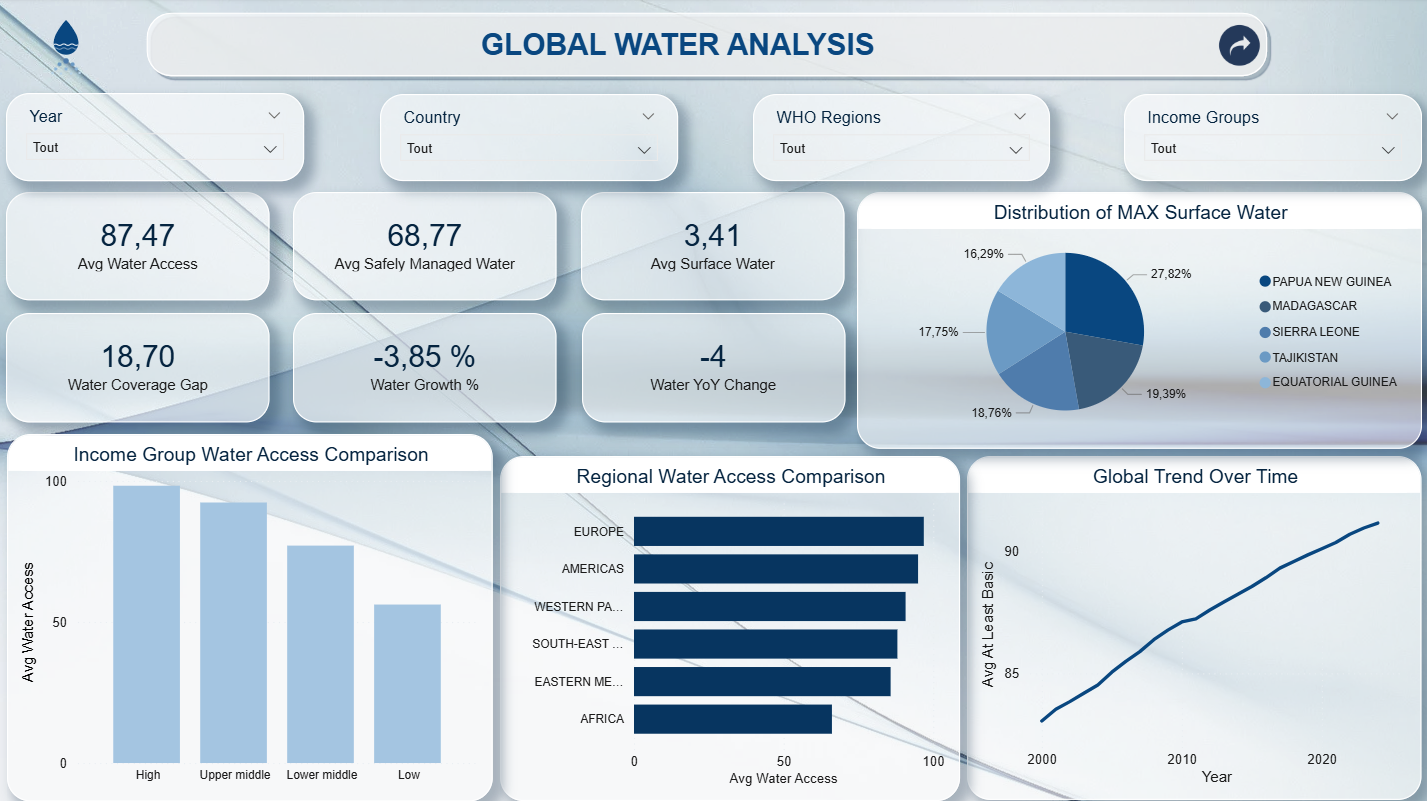

What the dashboard file says about the page in this screenshot:
{"tool":"powerbi","page":{"name":"Water Analysis","canvas":[1280,720],"ordinal":0},"visuals":[{"type":"cardVisual","fields":{"Data":["WATER.Avg Water Access"]},"box":[6.3,173.7,236.4,96.7],"z":0},{"type":"cardVisual","fields":{"Data":["WATER.Water Coverage Gap"]},"box":[6.3,282.1,236.4,97.6],"z":1000},{"type":"cardVisual","fields":{"Data":["WATER.Avg Safely Managed Water"]},"box":[263.3,173.7,236.4,96.7],"z":2000},{"type":"cardVisual","fields":{"Data":["WATER.Water Growth %"]},"box":[263.3,282.1,236.4,97.6],"z":3000},{"type":"cardVisual","fields":{"Data":["WATER.Avg Surface Water"]},"box":[521.2,173.7,236.4,96.7],"z":4000},{"type":"cardVisual","fields":{"Data":["WATER.Water YoY Change"]},"box":[522.1,282.1,235.5,97.6],"z":5000},{"type":"lineChart","title":"Global Trend Over Time","fields":{"Category":["YEAR.value"],"Y":["Avg(WATER.at_least_basic)"]},"box":[866.9,410.1,407.5,308.1],"z":6000},{"type":"pieChart","title":"Distribution of MAX Surface Water","fields":{"Category":["COUNTRY.country_name"],"Y":["Max(WATER.surface_water)"]},"box":[768.4,173.7,506,230.1],"z":7000},{"type":"clusteredBarChart","title":"Regional Water Access Comparison","fields":{"Category":["WATER.who_regions"],"Y":["WATER.Avg Water Access"]},"box":[448.7,410.1,411.9,309],"z":8000},{"type":"clusteredColumnChart","title":"Income Group Water Access Comparison","fields":{"Category":["WATER.income_groupings"],"Y":["WATER.Avg Water Access"]},"box":[7.2,390.4,435.2,328.7],"z":9000},{"type":"slicer","fields":{"Values":["YEAR.value"]},"box":[6.4,84.8,266.8,79.4],"z":10000},{"type":"slicer","fields":{"Values":["COUNTRY.country_name"]},"box":[340.9,85.8,266.8,78.3],"z":11000},{"type":"slicer","fields":{"Values":["WHO_REGIONS.who_regions"]},"box":[675.5,85.8,265.7,78.3],"z":12000},{"type":"slicer","fields":{"Values":["INCOME_GROUPS.Income_Groups"]},"box":[1007.9,85.8,266.8,78.3],"z":13000},{"type":"shape","box":[126,7.4,1015.3,68.8],"z":14000},{"type":"image","box":[18,4.2,83.6,76.2],"z":15000},{"type":"textbox","box":[411.8,22.2,391.7,46.6],"z":16000},{"type":"image","box":[1089.4,22.3,42.8,40],"z":17000}]}

Visuals, with their boxes in screenshot pixels (x1, y1, x2, y2), scaled from the page's 1280x720 canvas onto the 1427x801 screenshot:
cardVisual - WATER.Avg Water Access: x1=7, y1=193, x2=271, y2=301
cardVisual - WATER.Water Coverage Gap: x1=7, y1=314, x2=271, y2=422
cardVisual - WATER.Avg Safely Managed Water: x1=294, y1=193, x2=557, y2=301
cardVisual - WATER.Water Growth %: x1=294, y1=314, x2=557, y2=422
cardVisual - WATER.Avg Surface Water: x1=581, y1=193, x2=845, y2=301
cardVisual - WATER.Water YoY Change: x1=582, y1=314, x2=845, y2=422
"Global Trend Over Time" lineChart: x1=966, y1=456, x2=1421, y2=799
"Distribution of MAX Surface Water" pieChart: x1=857, y1=193, x2=1421, y2=449
"Regional Water Access Comparison" clusteredBarChart: x1=500, y1=456, x2=959, y2=800
"Income Group Water Access Comparison" clusteredColumnChart: x1=8, y1=434, x2=493, y2=800
slicer - YEAR.value: x1=7, y1=94, x2=305, y2=183
slicer - COUNTRY.country_name: x1=380, y1=95, x2=677, y2=183
slicer - WHO_REGIONS.who_regions: x1=753, y1=95, x2=1049, y2=183
slicer - INCOME_GROUPS.Income_Groups: x1=1124, y1=95, x2=1421, y2=183
shape: x1=140, y1=8, x2=1272, y2=85
image: x1=20, y1=5, x2=113, y2=89
textbox: x1=459, y1=25, x2=896, y2=77
image: x1=1215, y1=25, x2=1262, y2=69
